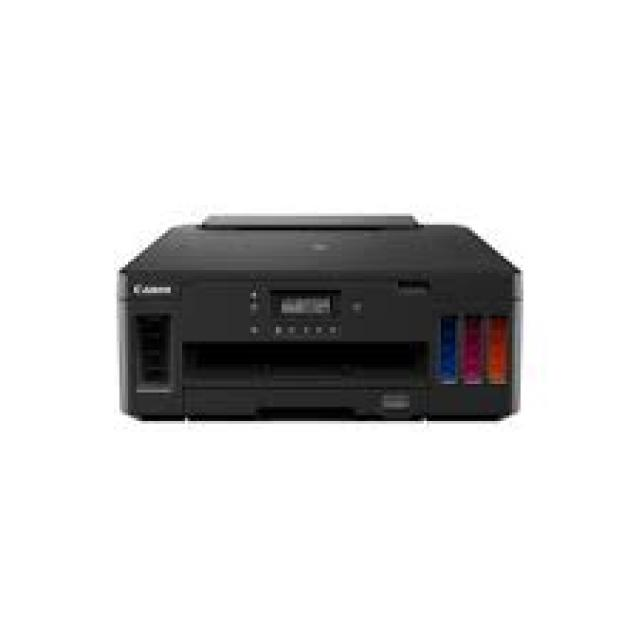printer: (114, 210, 523, 421)
